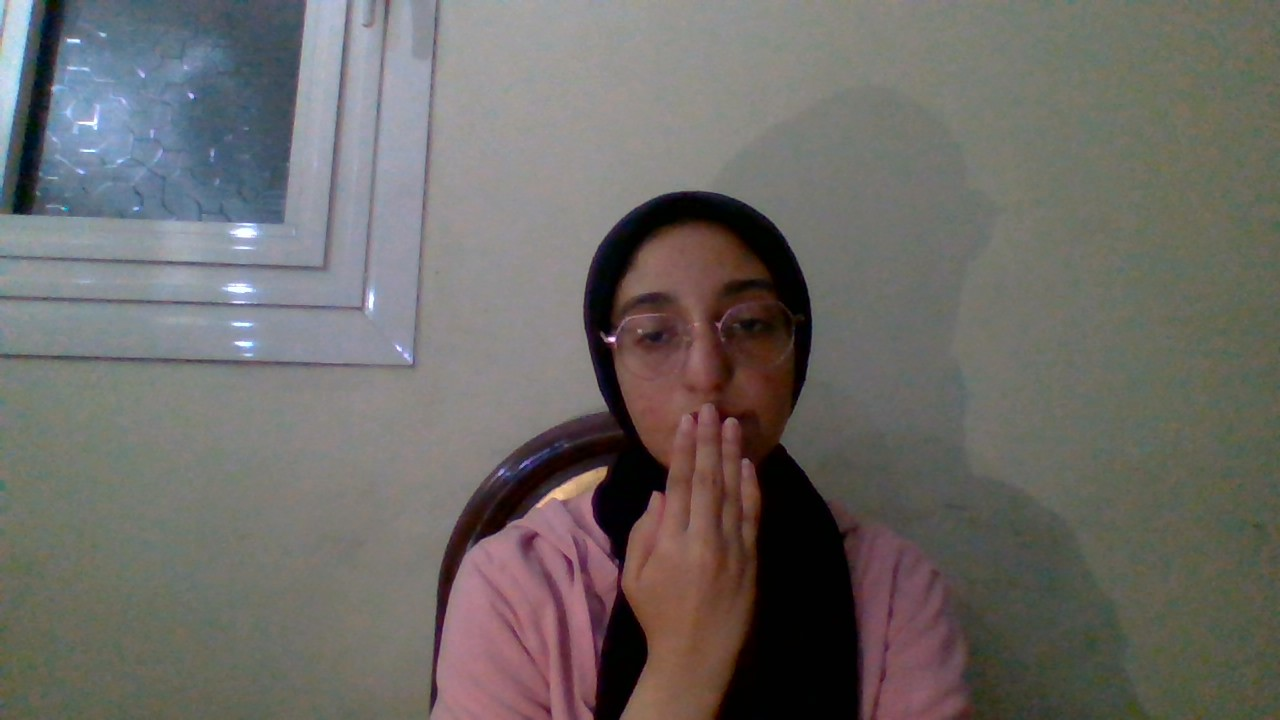thankyou: (516, 366, 858, 660)
